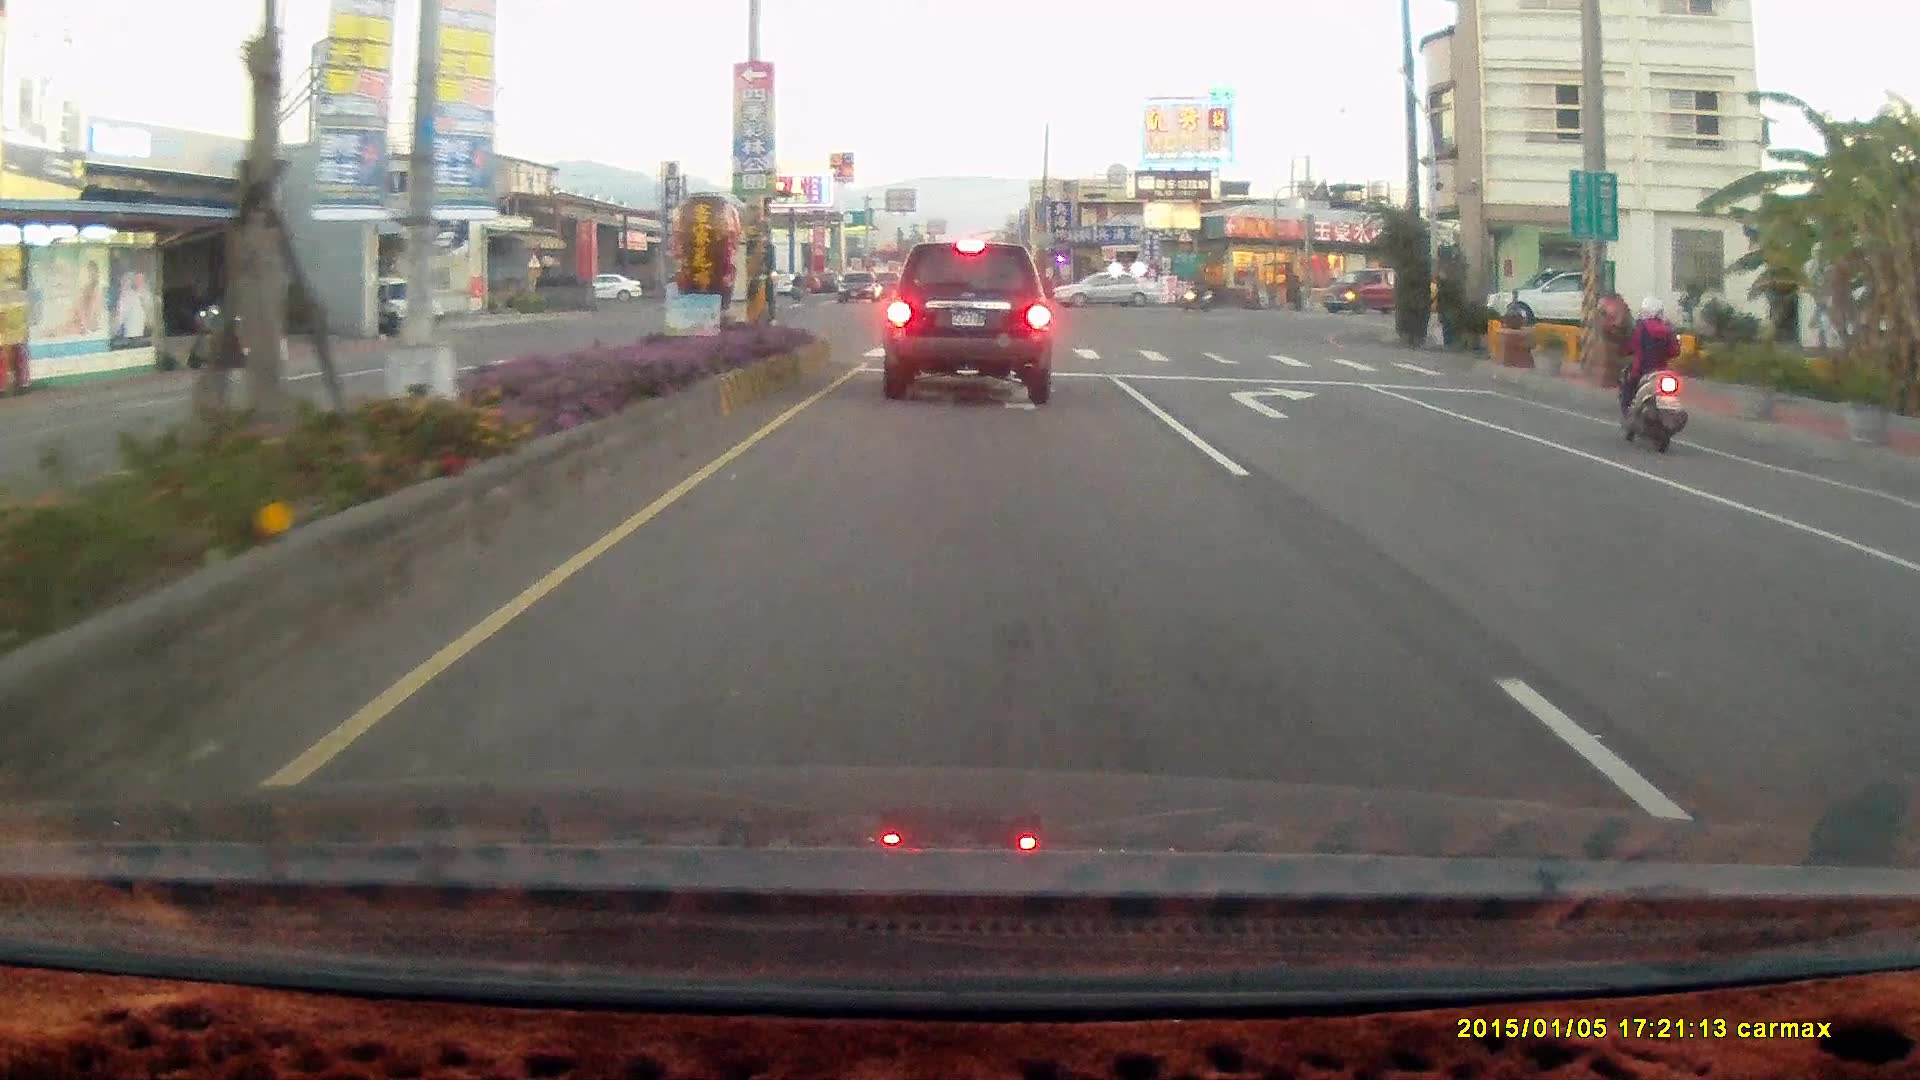rider: (1611, 293, 1689, 455), (1179, 272, 1215, 311)
vehicle: (881, 240, 1055, 401), (1485, 265, 1631, 331), (1896, 493, 1920, 836), (1492, 268, 1601, 328), (1883, 528, 1920, 690), (367, 274, 447, 336), (1320, 267, 1420, 313), (1051, 269, 1161, 308), (1052, 271, 1163, 310)
